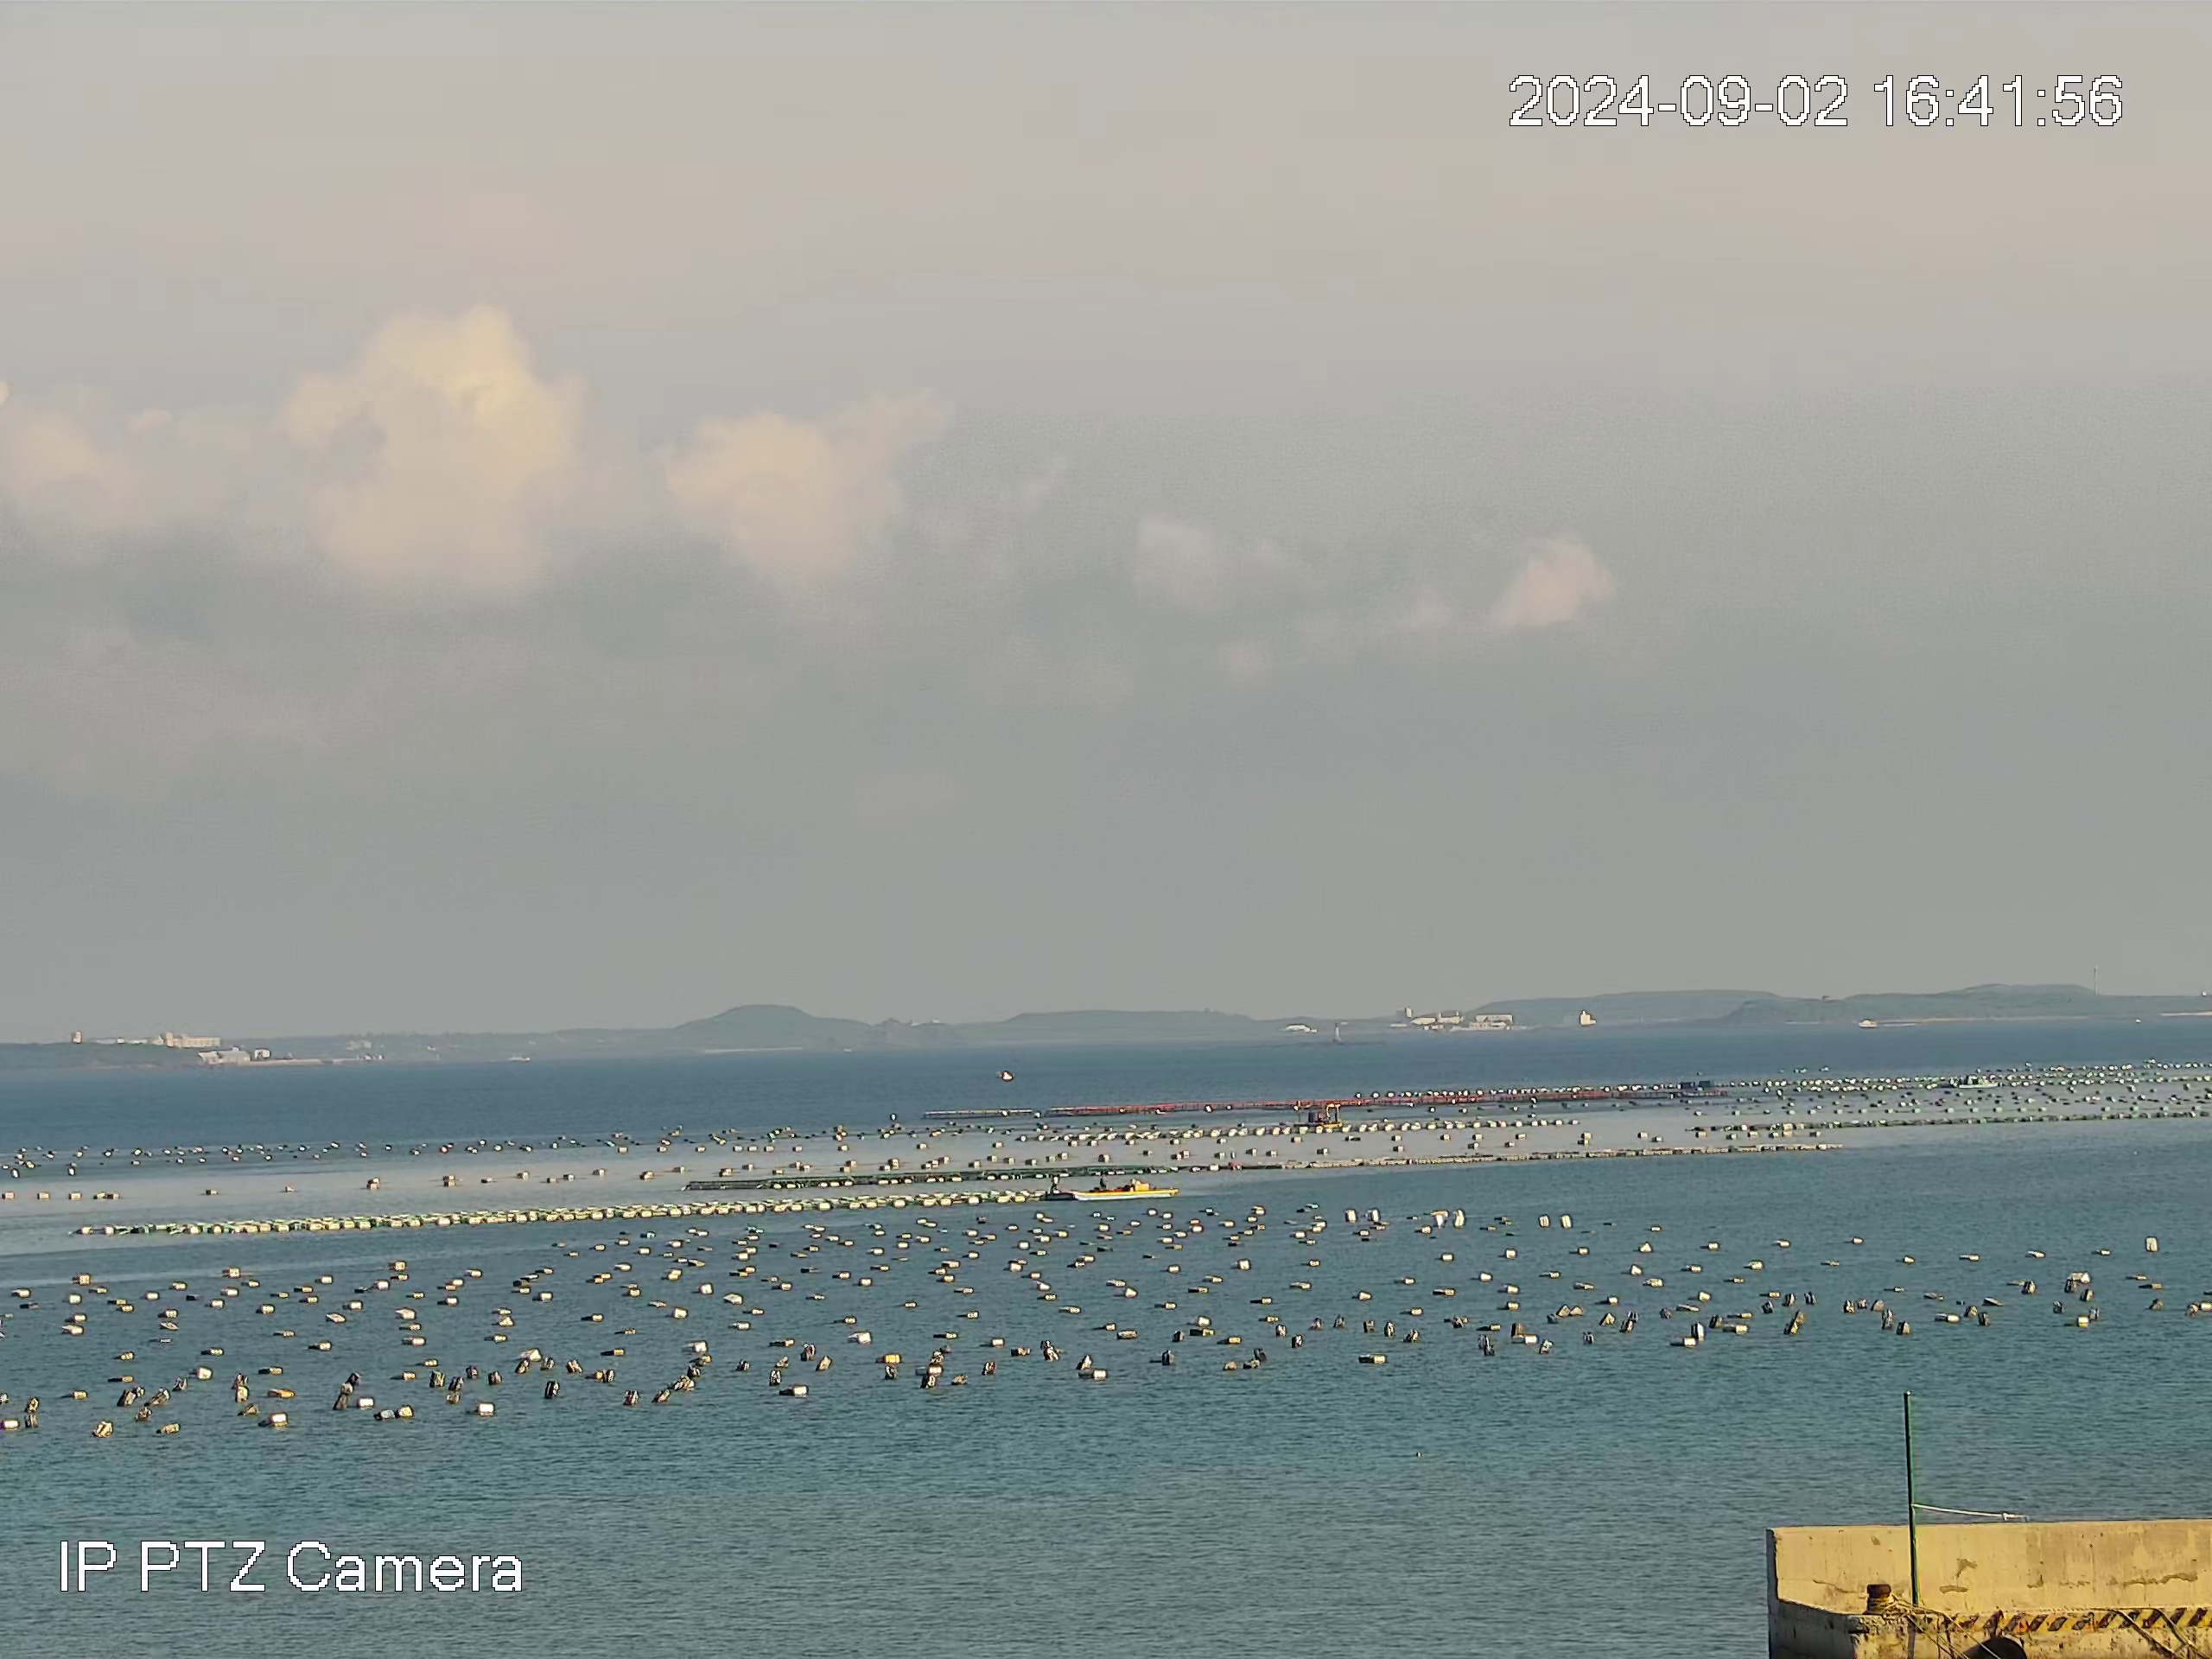boat: (1038, 1169, 1181, 1202), (1291, 1100, 1343, 1129), (1958, 1073, 2000, 1089)
